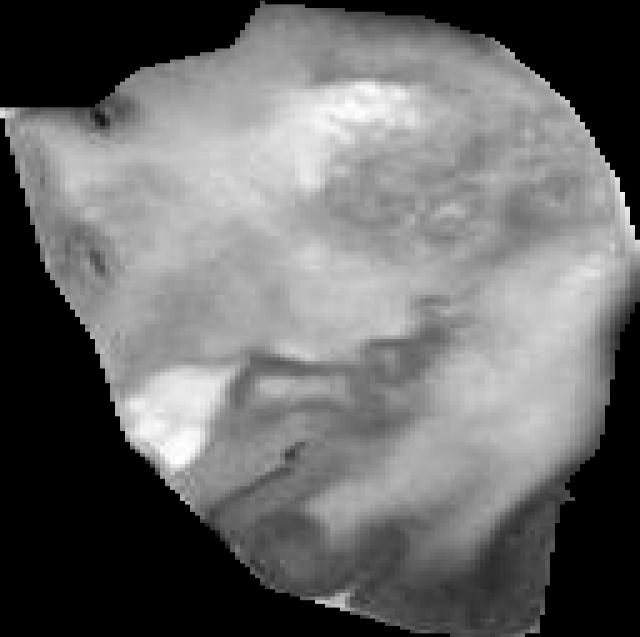tumor_less_chance: (0, 1, 640, 637)
